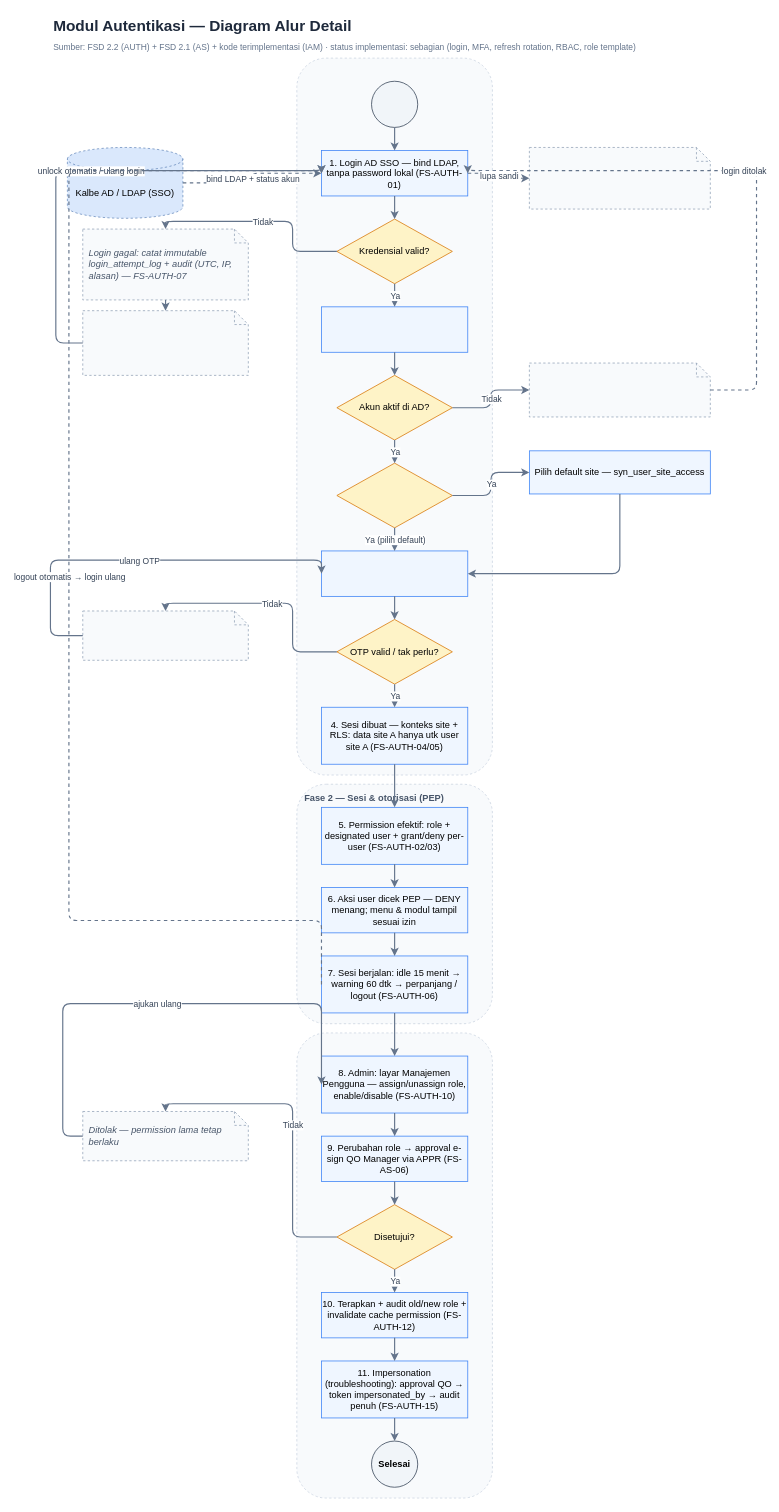
Image size: 779x1512. Some labels were removed from this diagram. The shapes that lost their labels are listed below. From the top down, each one's box as (x1, y1, x2, y2) in pixels, then its label:
(371, 80, 418, 127): Mulai
(529, 147, 710, 209): Lupa password → redirect portal reset AD (di luar Syntera) — FS-AUTH-11
(82, 310, 248, 375): Counter 5x gagal → lockout 30 menit + notif admin & user (FS-AUTH-08)
(321, 306, 468, 352): 2. Cek user master hasil sinkron AD real-time (event-driven)
(529, 362, 710, 417): Tolak: ACCOUNT_DISABLED (user dinonaktifkan di AD)
(296, 57, 492, 775): Fase 1 — Autentikasi & login
(336, 462, 452, 528): Akses multi-site?
(321, 550, 468, 596): 3. MFA OTP bila role high-privilege: SysAdmin / QO Manager (FS-AUTH-09)
(82, 610, 248, 660): OTP salah: catat MFA_FAILED → ulang
(296, 1032, 492, 1498): Fase 3 — Administrasi pengguna & impersonation
